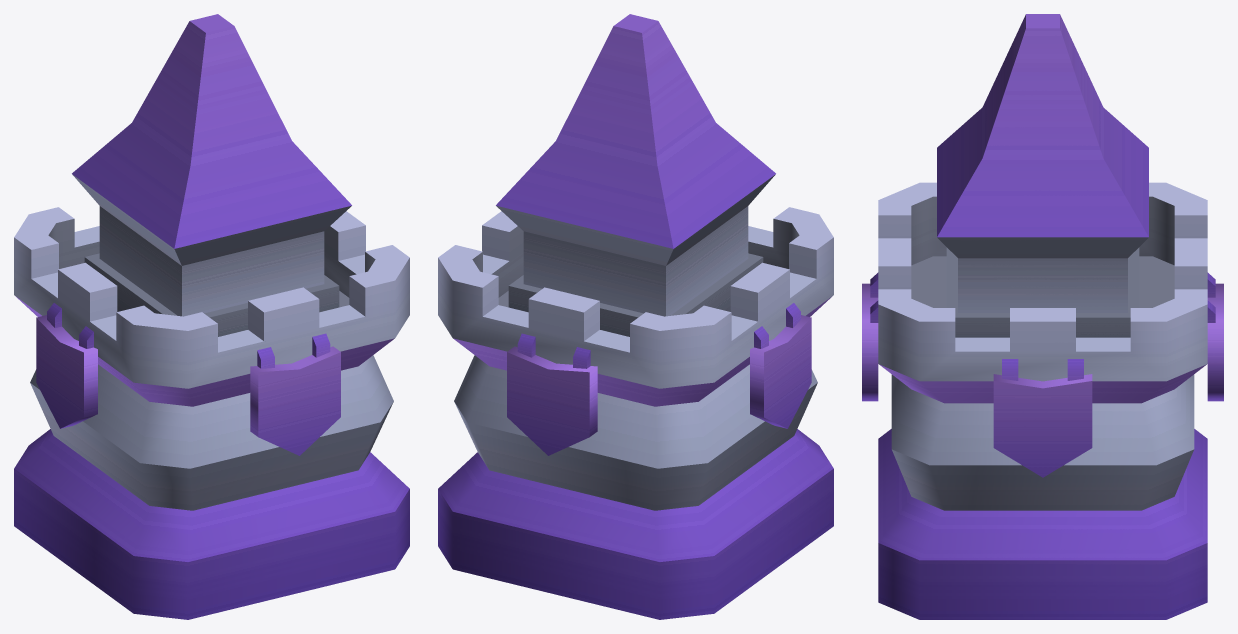
The model's file is tower-square-build-d.glb.
3 views of the same model, side by side, from view 1: azimuth 30°, elevation 25°; view 2: azimuth 150°, elevation 25°; view 3: azimuth 270°, elevation 25° (orthographic). The views are drawn at different scales.
Parts seen in each view (by area): view 1: tower-square-build-d; view 2: tower-square-build-d; view 3: tower-square-build-d.
Boxes of the visible parts, x1=… form: tower-square-build-d: x1=14, y1=14, x2=409, y2=619; tower-square-build-d: x1=438, y1=14, x2=833, y2=619; tower-square-build-d: x1=862, y1=14, x2=1223, y2=619.
Size of the model in its own units: 1.1 by 1.77 by 1.1.
Materials: 1 (1 with a texture image).
